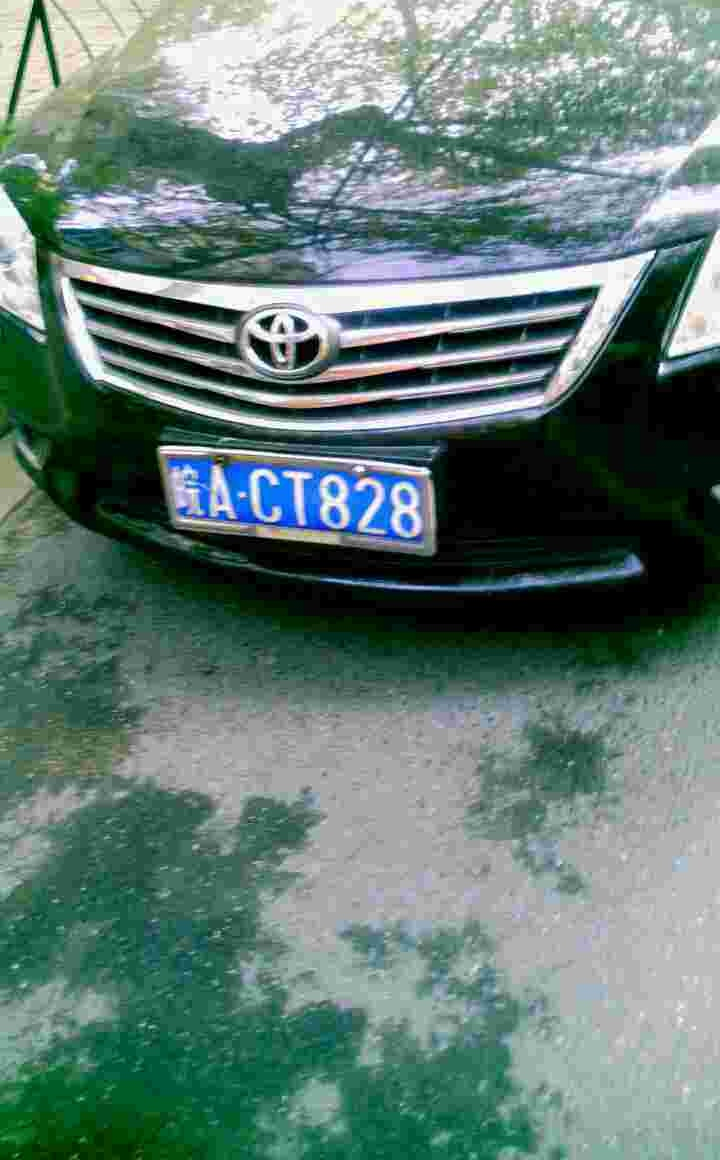license_plate: (173, 451, 434, 548)
